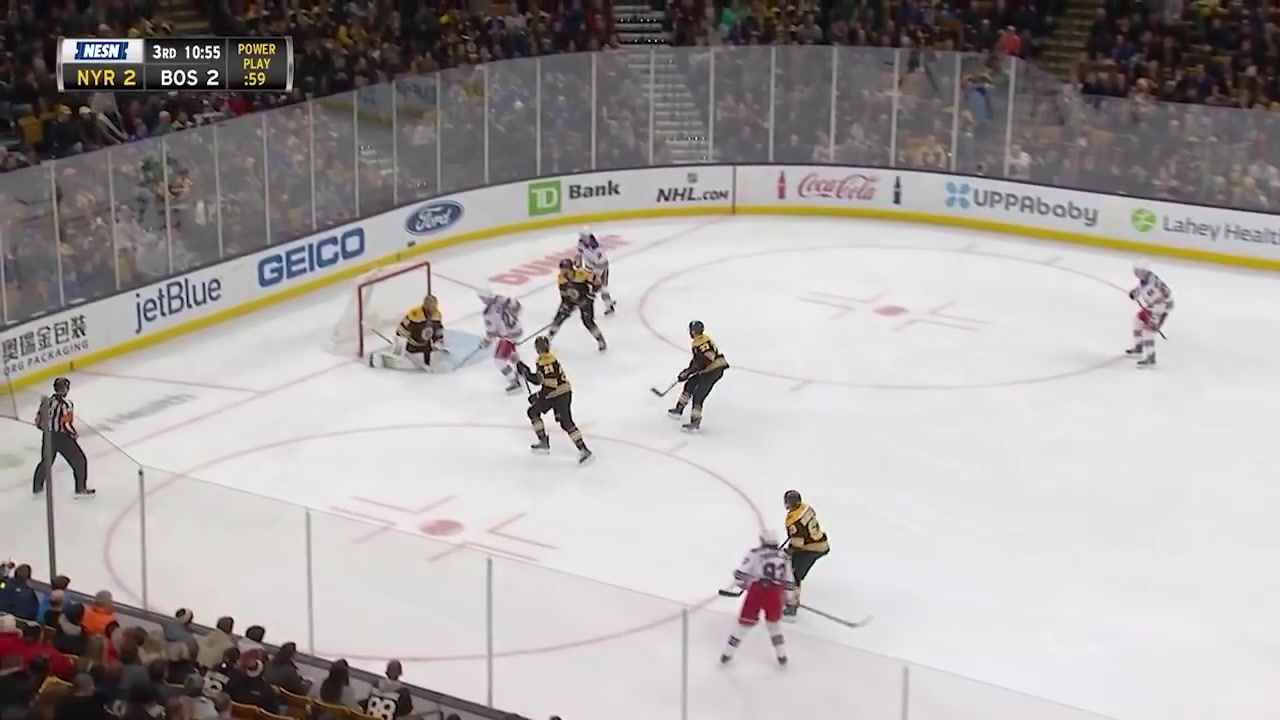Geico: (248, 214, 370, 294)
